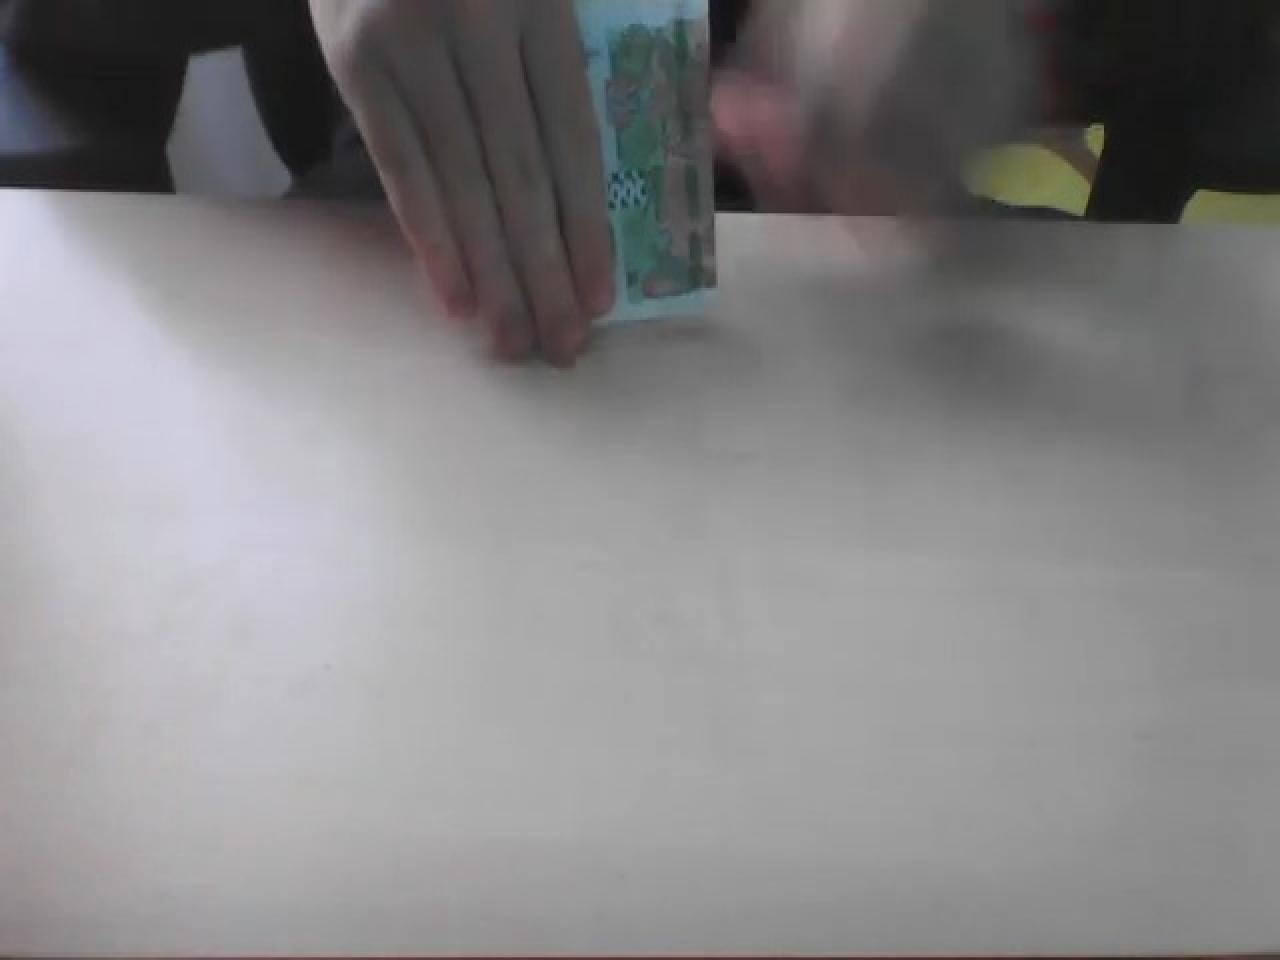100leva: (568, 0, 718, 320)
